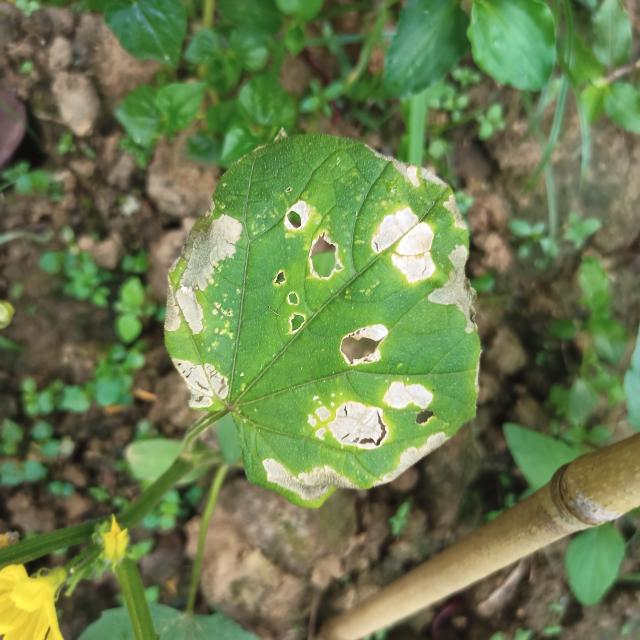disease_cucumber: (305, 159, 490, 377), (157, 190, 310, 415), (254, 378, 453, 508)
